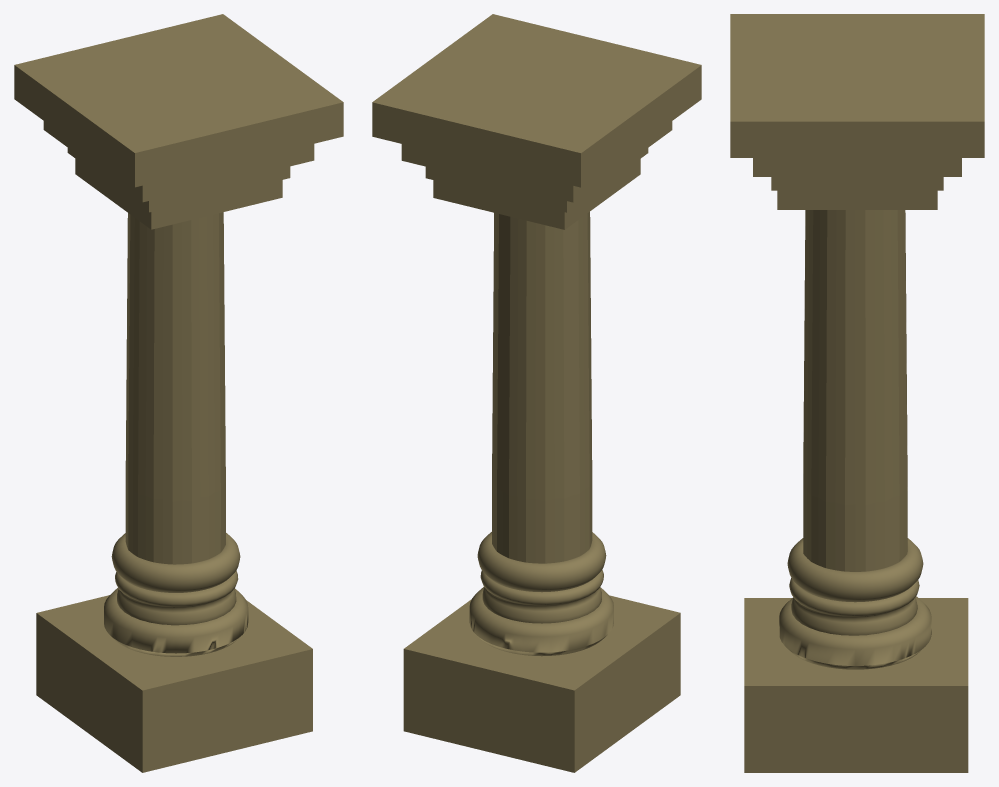
Rendered from uploads_files_3213033_021-Low-poly+ancient+columns.fbx.
3 renders of one model, left to right at view 1: azimuth 30°, elevation 25°; view 2: azimuth 150°, elevation 25°; view 3: azimuth 270°, elevation 25°, orthographic. The views are drawn at different scales.
Parts seen in each view (by area): view 1: Cube.009, Cylinder, Cube.010, Torus.001, Cube.008, Torus, Cylinder.001, Cube.006, Cube.007; view 2: Cube.009, Cylinder, Cube.010, Torus.001, Cube.008, Torus, Cylinder.001, Cube.006, Cube.007; view 3: Cylinder, Cube.009, Cube.010, Torus.001, Torus, Cylinder.001, Cube.008, Cube.006, Cube.007.
Boxes of the visible parts, left/top/right/bottom form: Cube.009: left=14, top=14, right=343, bottom=187; Cylinder: left=125, top=212, right=225, bottom=564; Cube.010: left=36, top=595, right=312, bottom=772; Torus.001: left=104, top=588, right=248, bottom=656; Cube.008: left=43, top=121, right=314, bottom=202; Torus: left=111, top=533, right=240, bottom=592; Cylinder.001: left=115, top=570, right=238, bottom=625; Cube.006: left=75, top=158, right=282, bottom=229; Cube.007: left=67, top=148, right=290, bottom=212; Cube.009: left=372, top=14, right=701, bottom=187; Cylinder: left=492, top=212, right=592, bottom=563; Cube.010: left=403, top=595, right=680, bottom=772; Torus.001: left=469, top=587, right=613, bottom=656; Cube.008: left=401, top=121, right=672, bottom=202; Torus: left=477, top=532, right=606, bottom=592; Cylinder.001: left=480, top=570, right=603, bottom=623; Cube.006: left=433, top=159, right=640, bottom=229; Cube.007: left=425, top=148, right=648, bottom=212; Cylinder: left=803, top=210, right=907, bottom=571; Cube.009: left=730, top=14, right=984, bottom=157; Cube.010: left=744, top=598, right=968, bottom=772; Torus.001: left=779, top=596, right=931, bottom=669; Torus: left=787, top=538, right=923, bottom=602; Cylinder.001: left=789, top=578, right=919, bottom=635; Cube.008: left=753, top=158, right=961, bottom=176; Cube.006: left=777, top=190, right=937, bottom=209; Cube.007: left=771, top=177, right=943, bottom=190.
Size of the model in its own units: 159 by 457 by 159.
